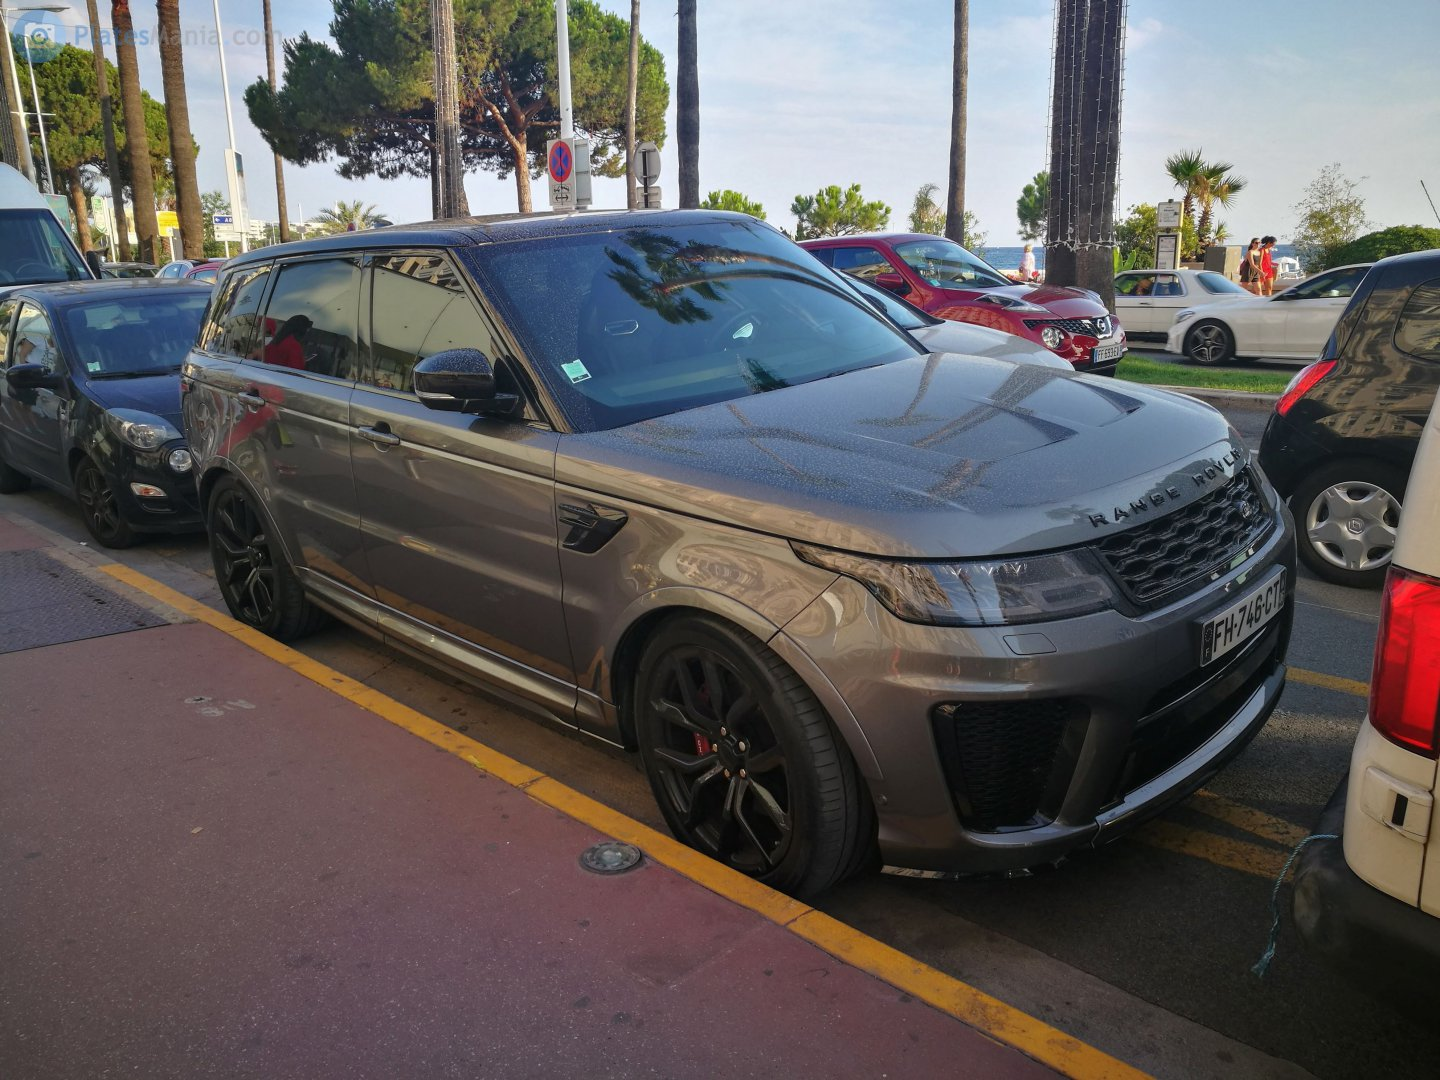licence plate: (1191, 562, 1299, 670)
